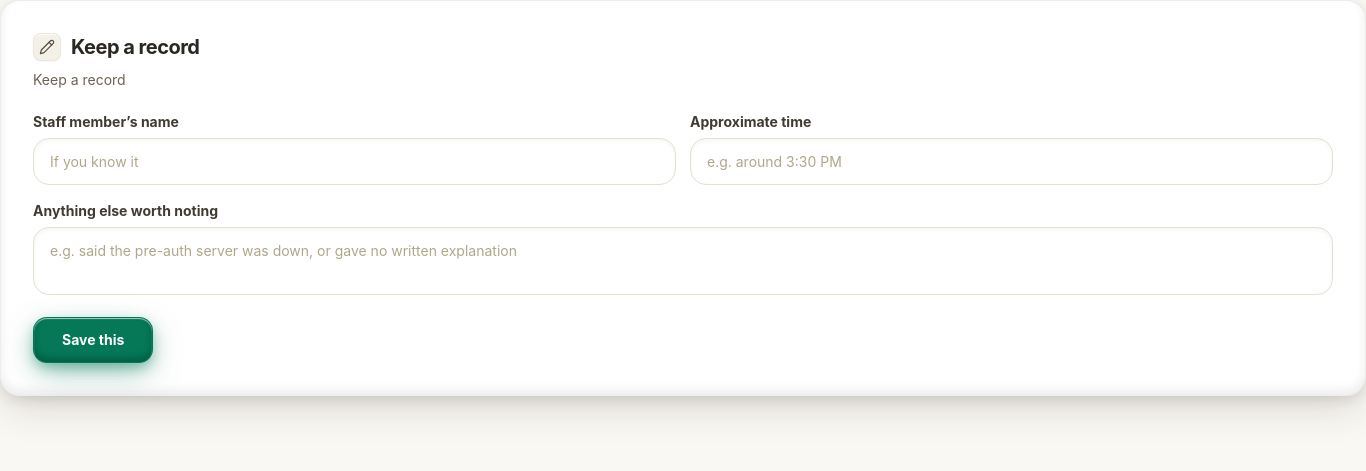
Test: EvidenceForm › shows the ApiError message on failure without losing what the user typed
The width and height of the screenshot is (1366, 471).
Type "Some note" into the text box labelled "Anything else worth noting" at (683, 261), box [33, 227, 1333, 295]
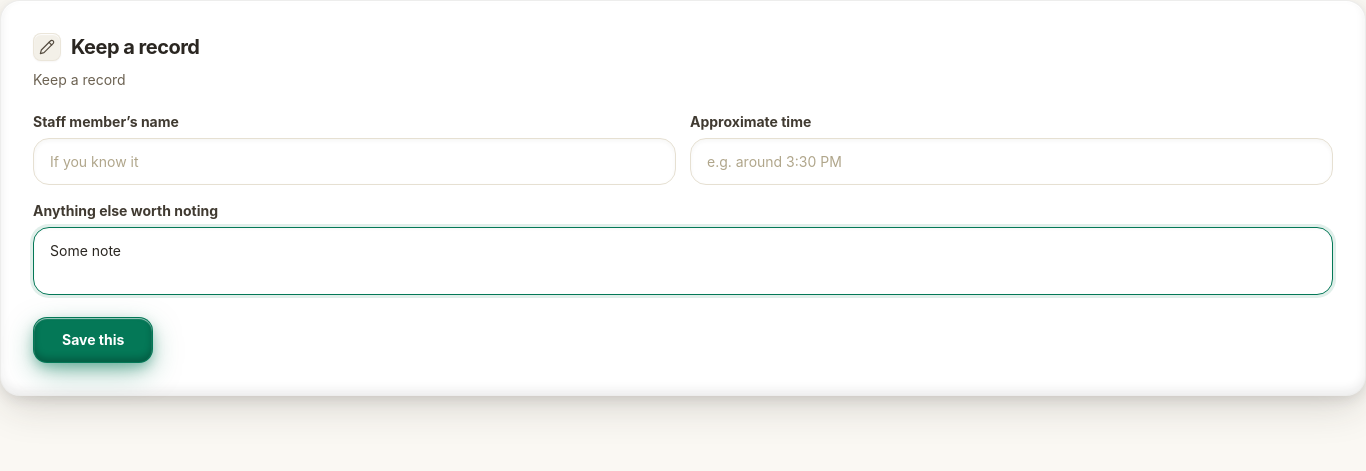
Click the button "Save this" at (93, 340), box [33, 317, 153, 363]
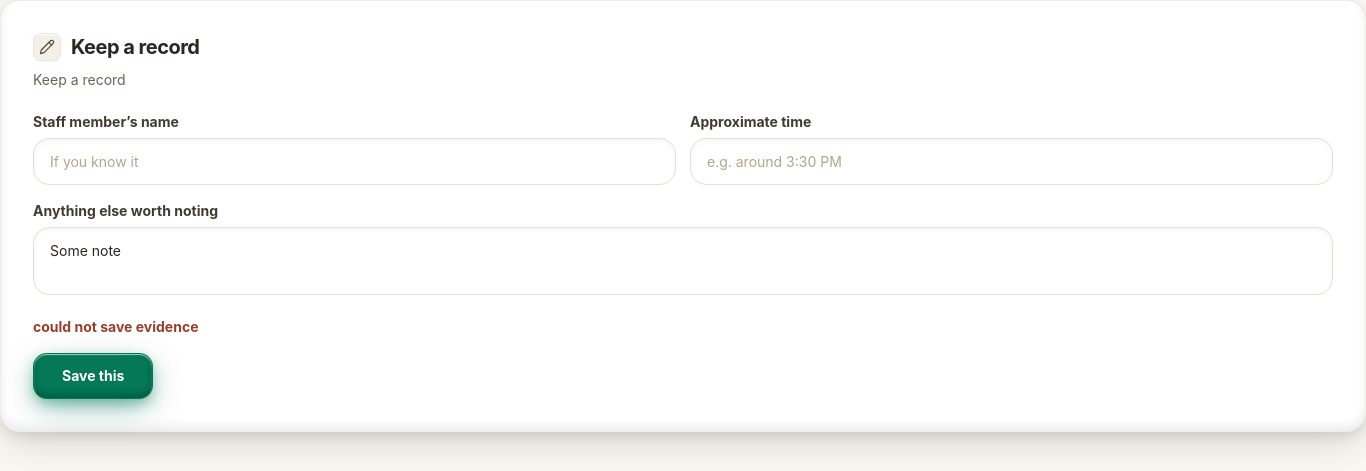
Expected: the text "could not save evidence" is shown, [33, 318, 198, 335]
